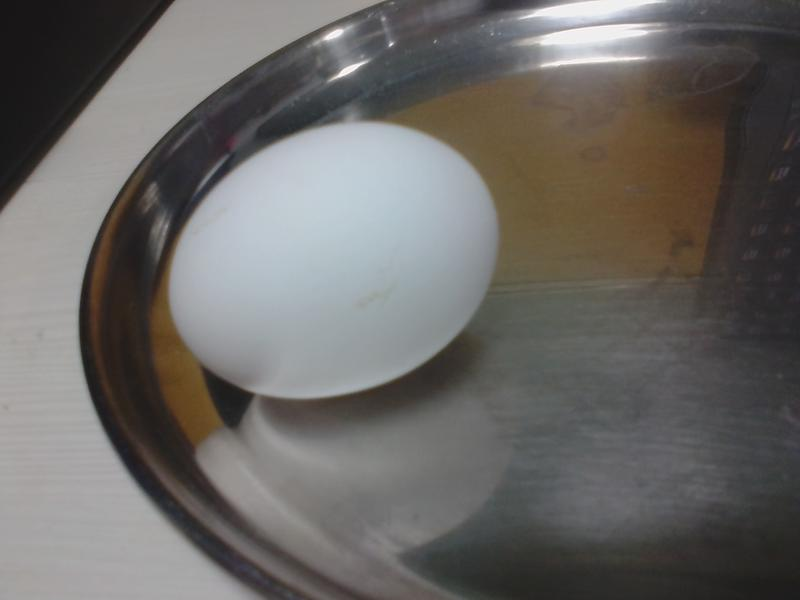egg: (170, 118, 493, 391)
